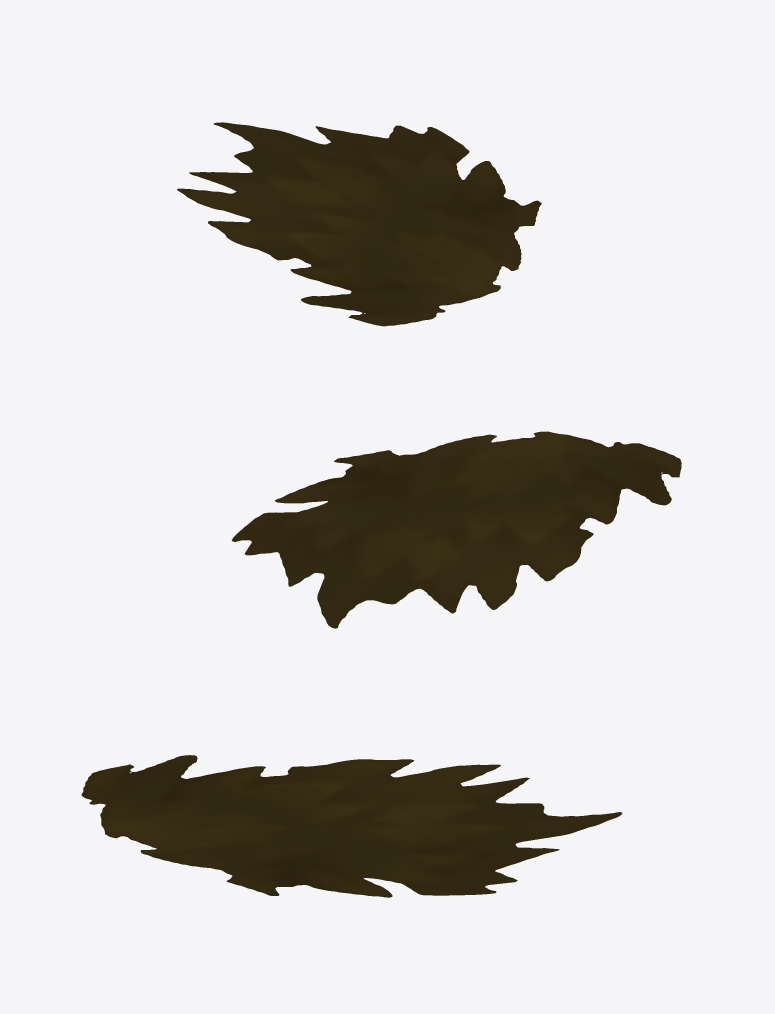
File: Juesexuanze_shuye02.FBX
The picture shows the model from 3 angles, top to bottom: view 1: azimuth 30°, elevation 25°; view 2: azimuth 150°, elevation 25°; view 3: azimuth 270°, elevation 25°; orthographic projection. The views are drawn at different scales.
Visible parts, largest first — view 1: Juesexuanze_shuye02; view 2: Juesexuanze_shuye02; view 3: Juesexuanze_shuye02.
Part boxes in pixels (bbox=[...]): Juesexuanze_shuye02: bbox=[177, 122, 541, 326]; Juesexuanze_shuye02: bbox=[231, 431, 681, 628]; Juesexuanze_shuye02: bbox=[81, 755, 622, 897].
Bounding box in the file's own units: 83.98 × 0.7559 × 83.69.
Materials: 1 (1 with a texture image).
